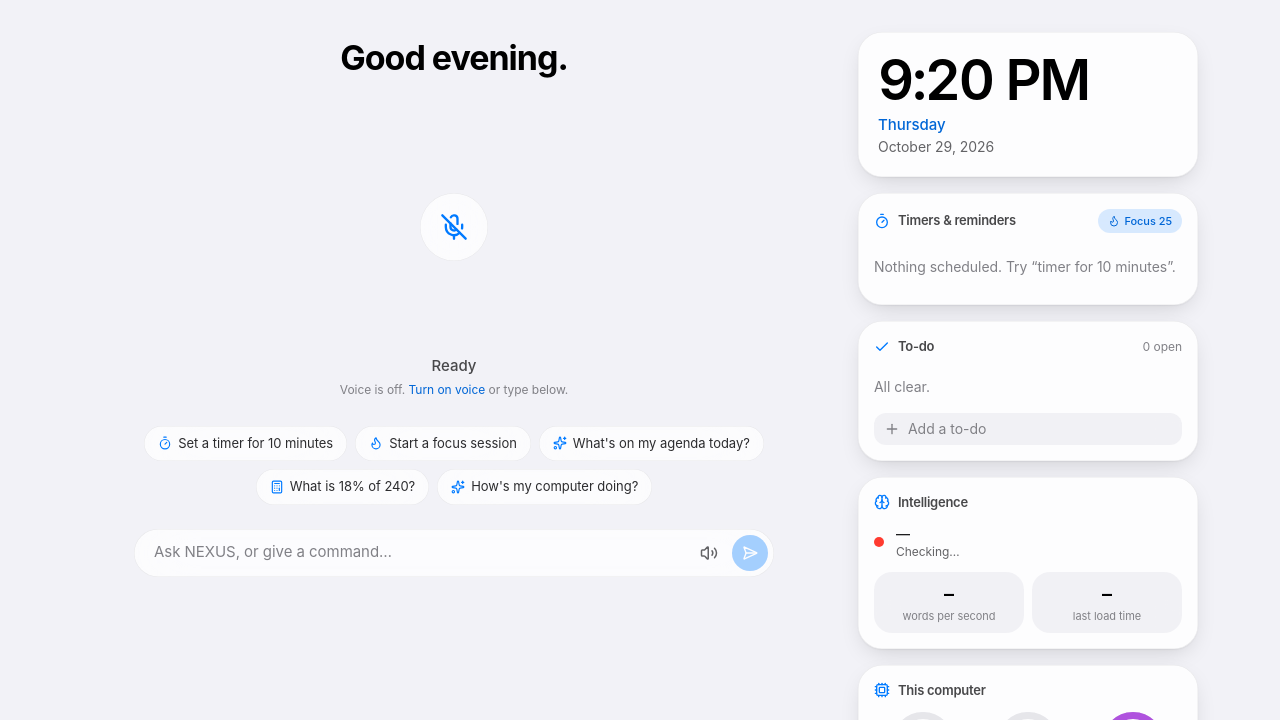
Scenario: AssistantPage › runs a typed command, shows what NEXUS did and lists the new timer
Expected: the text "Ready" is shown, [432,355,476,378]
Expected: the text "Voice is off. Turn on voice or type below." is shown, [340,382,568,402]
Type "set a timer for 10 minutes" into the field named "Message NEXUS" at (420, 553), box [154,541,686,564]
Then press Enter
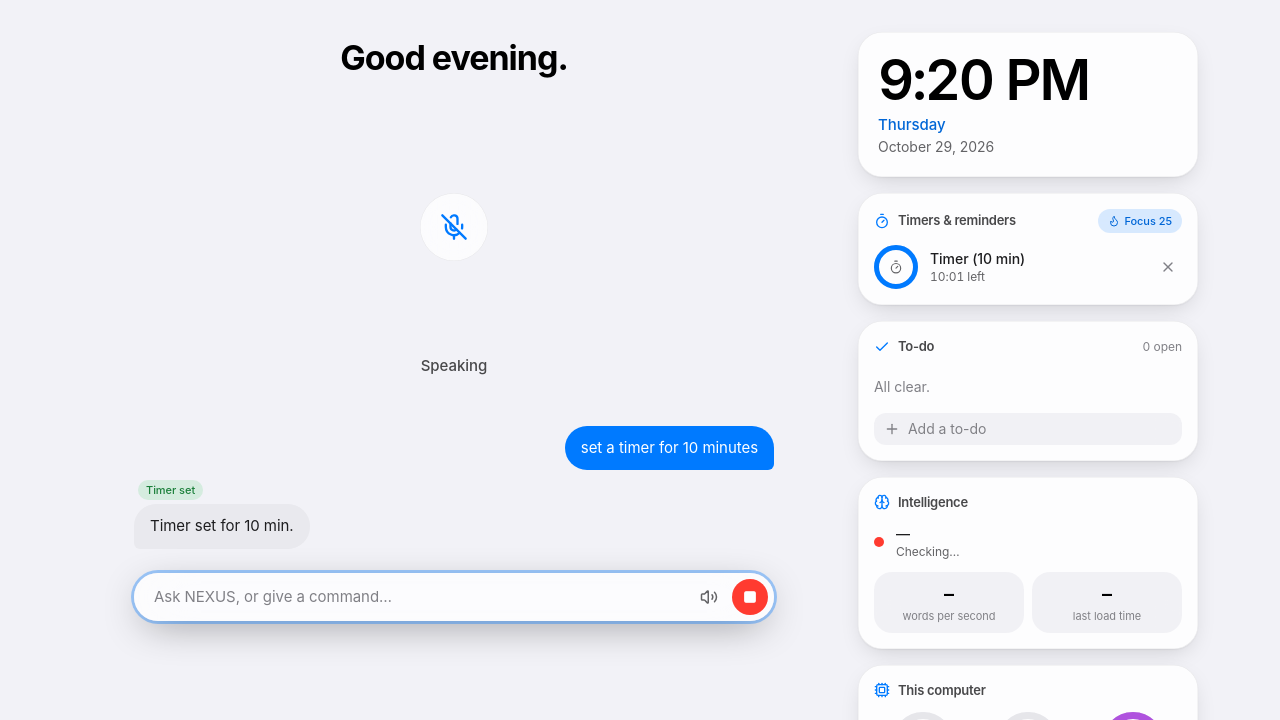
Expected: the text "Timer set for 10 min." is shown, [134,504,310,549]
Expected: the text "Timer set" is shown, [138,480,203,500]
Expected: the text "Timer (10 min)" is shown, [930,250,1025,267]
